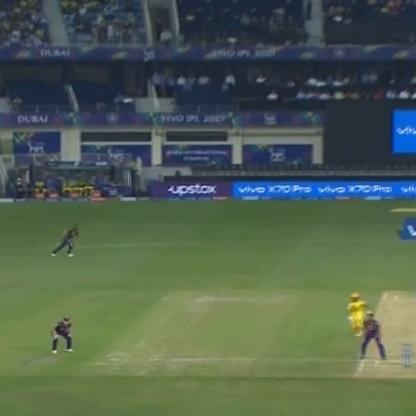pitch: (353, 291, 416, 374)
